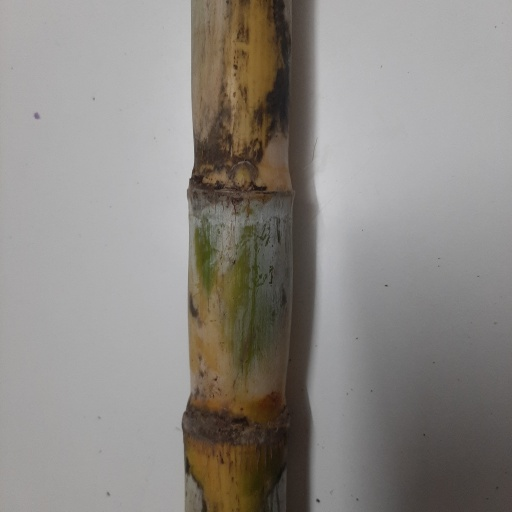Bud: (232, 160, 259, 192)
